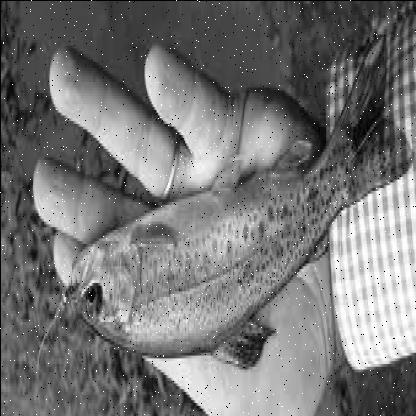fish: (68, 57, 414, 366)
